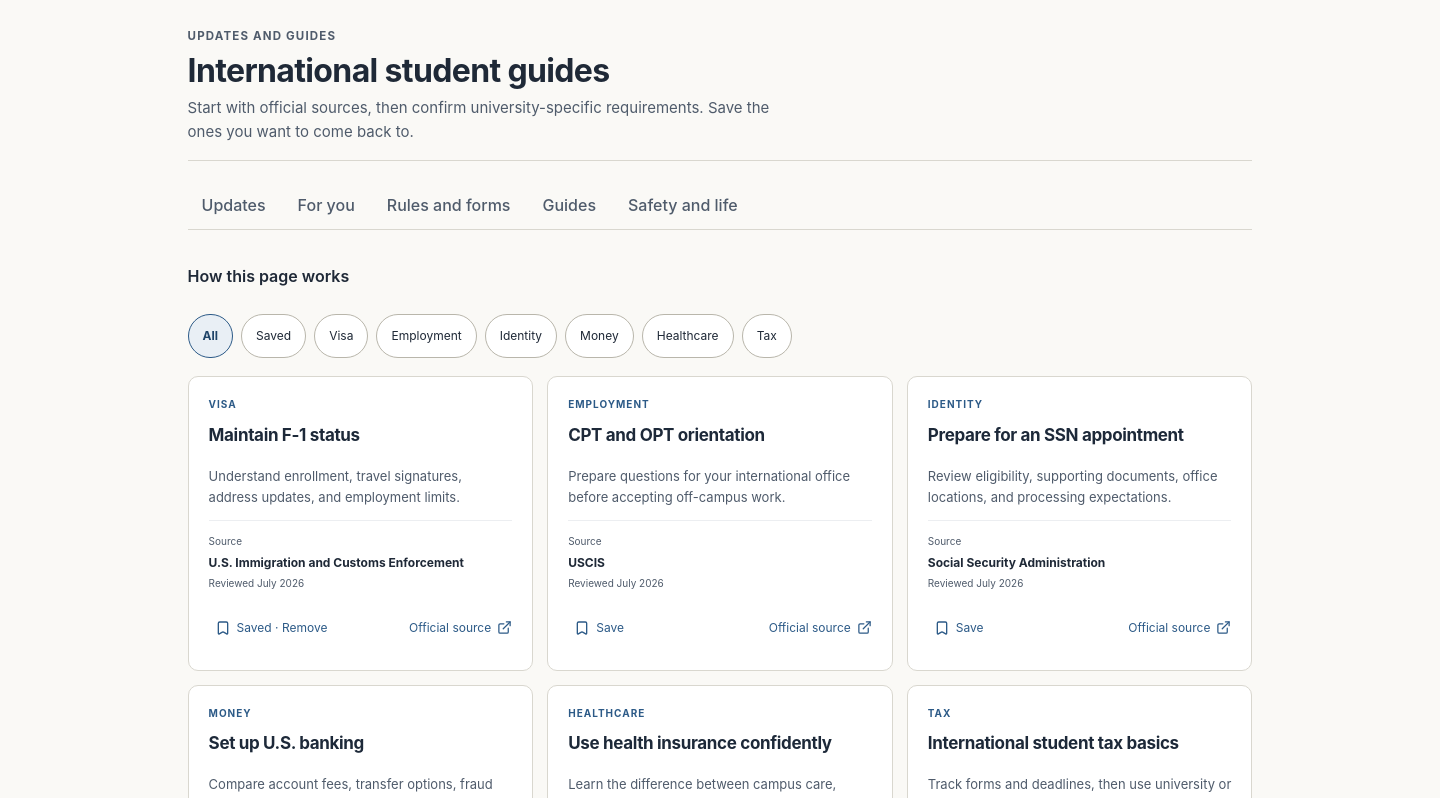
Scenario: GuidesPage › saved guides can be filtered and removed when removal is supported
Step 1. Click the button "Saved" → coordinates (274, 336), box [241, 314, 306, 358]
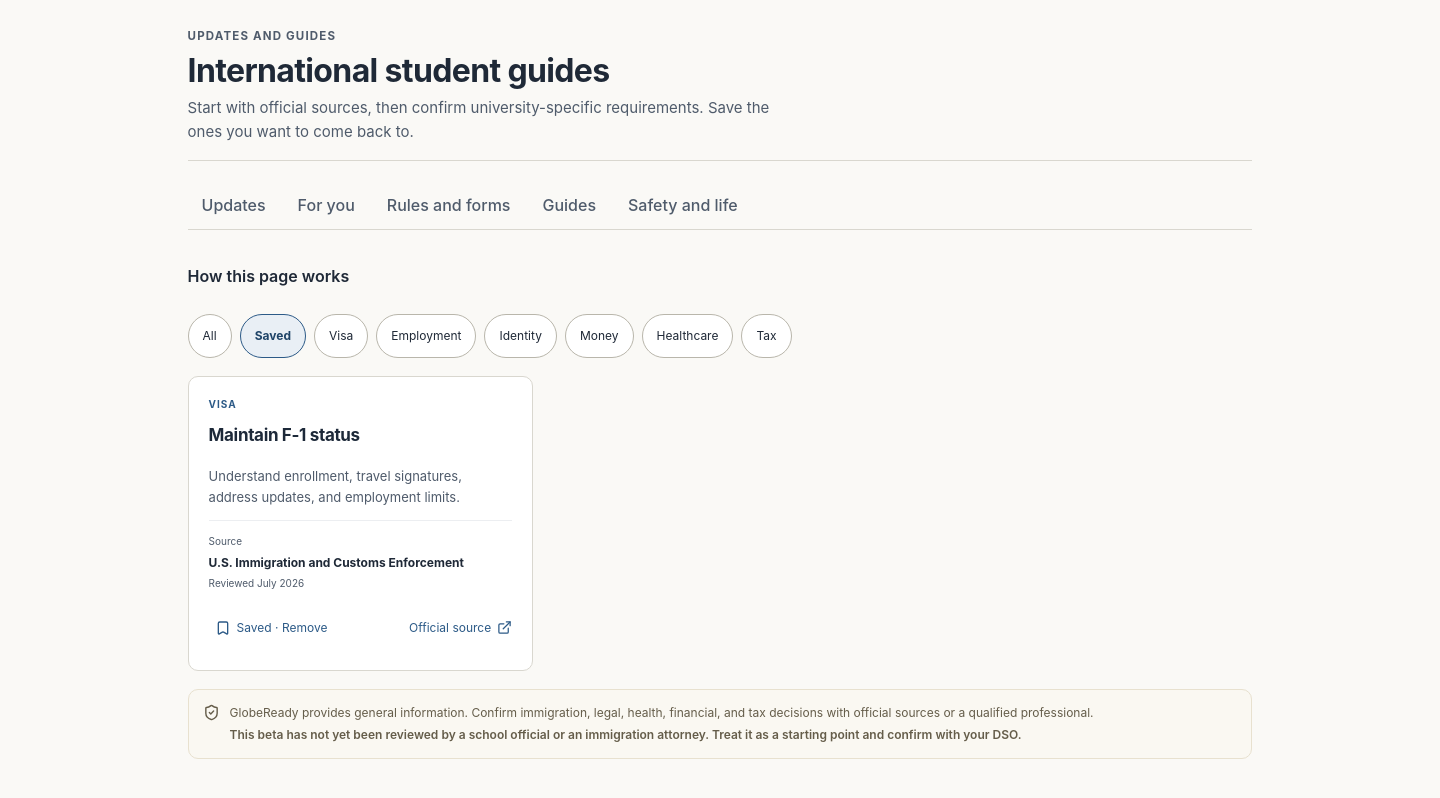
Step 2. Click the button "Saved · Remove" → coordinates (271, 628), box [209, 606, 333, 650]
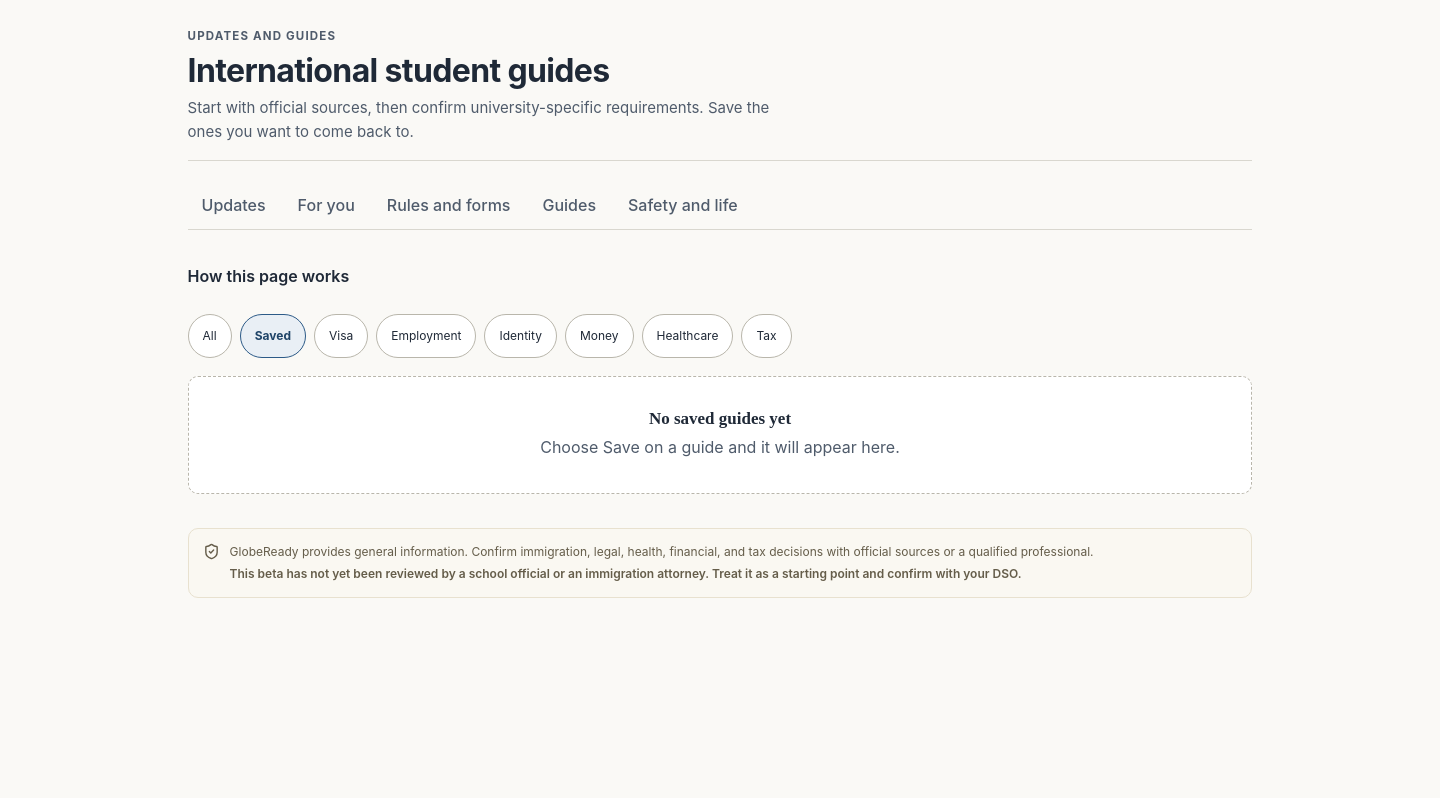
Result: the heading "No saved guides yet" is shown at [649, 409, 791, 428]
